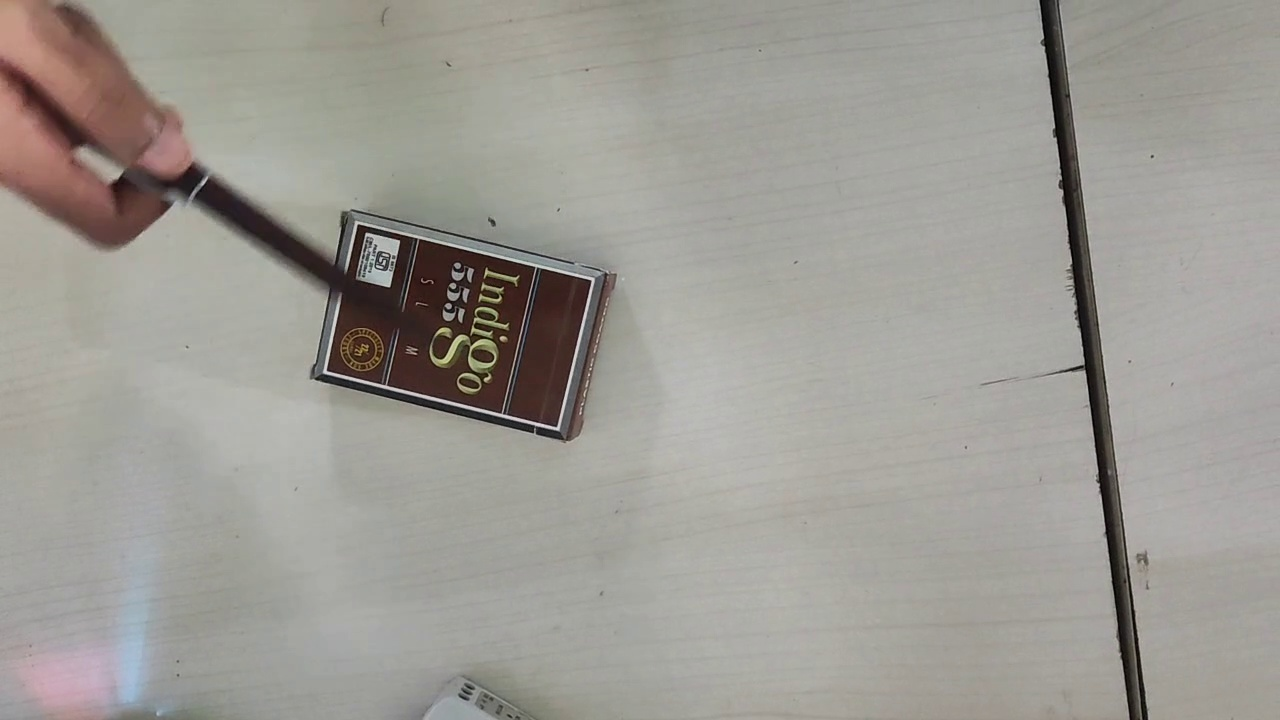BEX: (324, 224, 591, 426)
